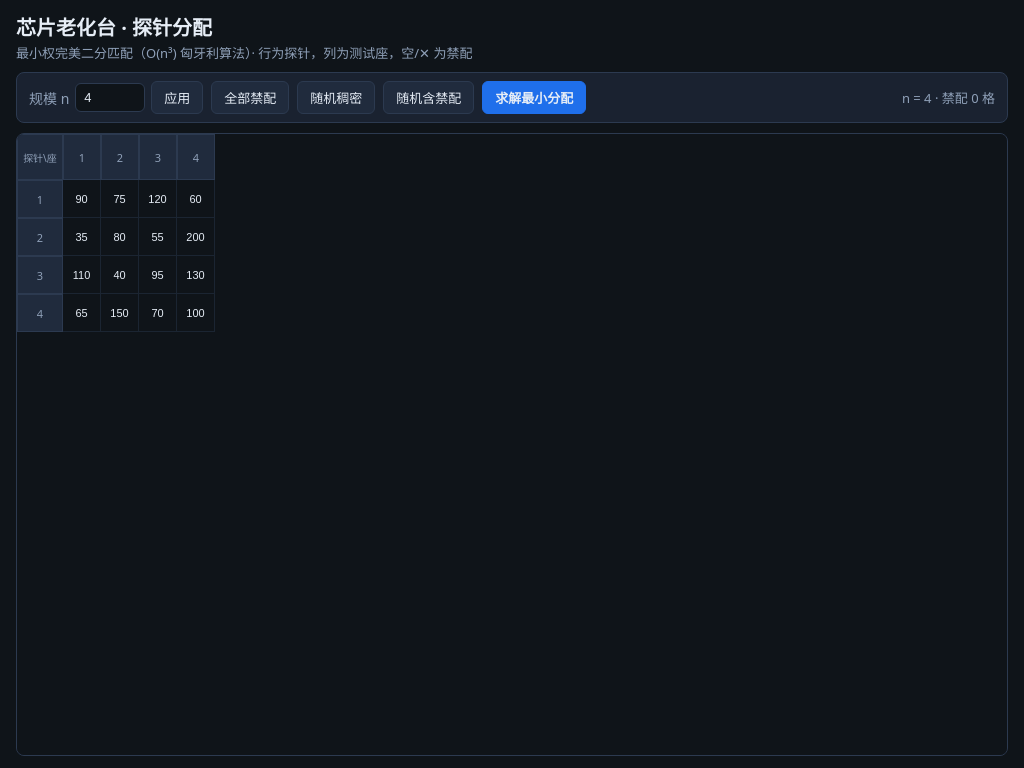
Test: App 页面：请求锁定 / 编辑清方案 / 排除重算 › 编辑后旧标记随方案一起清除，不会残留上一轮结论
Step 1. Click the button "求解最小分配" → click(534, 98), box [482,81,586,114]
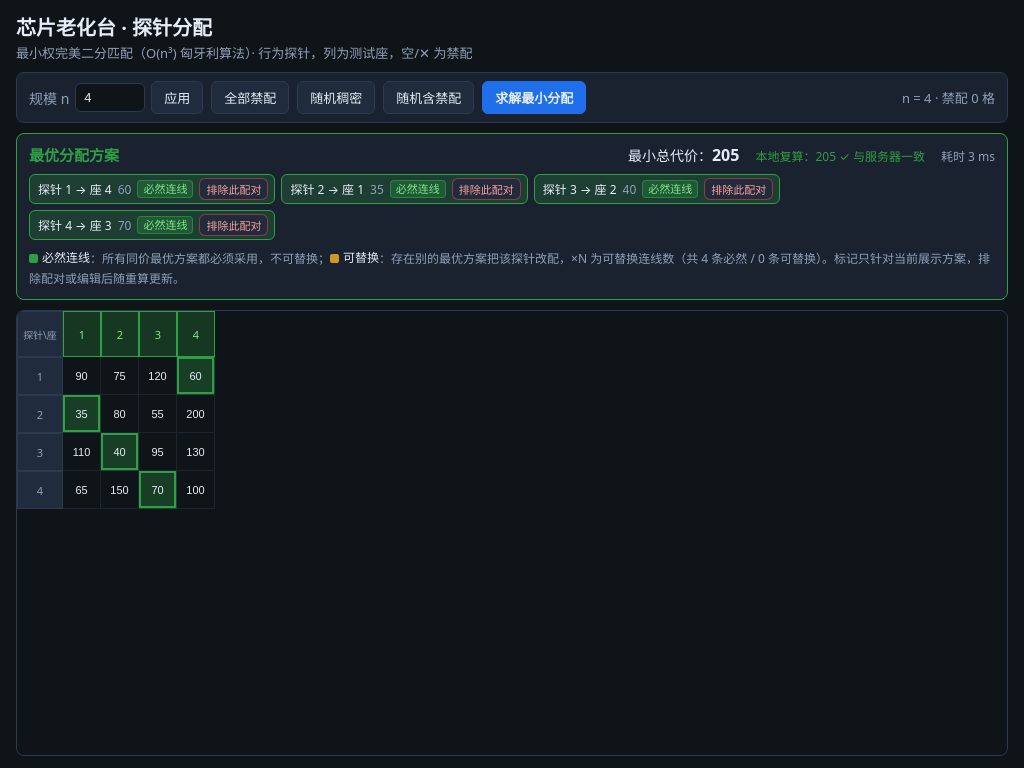
Expected: the heading "最优分配方案" is shown, [29,144,119,165]
Expected: the number of elements with class "is-forced" is 4, [137,180,193,198]; [390,180,446,198]; [642,180,698,198]; [137,216,193,234]
Step 2. Click the button with class "cell-value" showing "90" → click(82, 376), box [63,358,100,394]
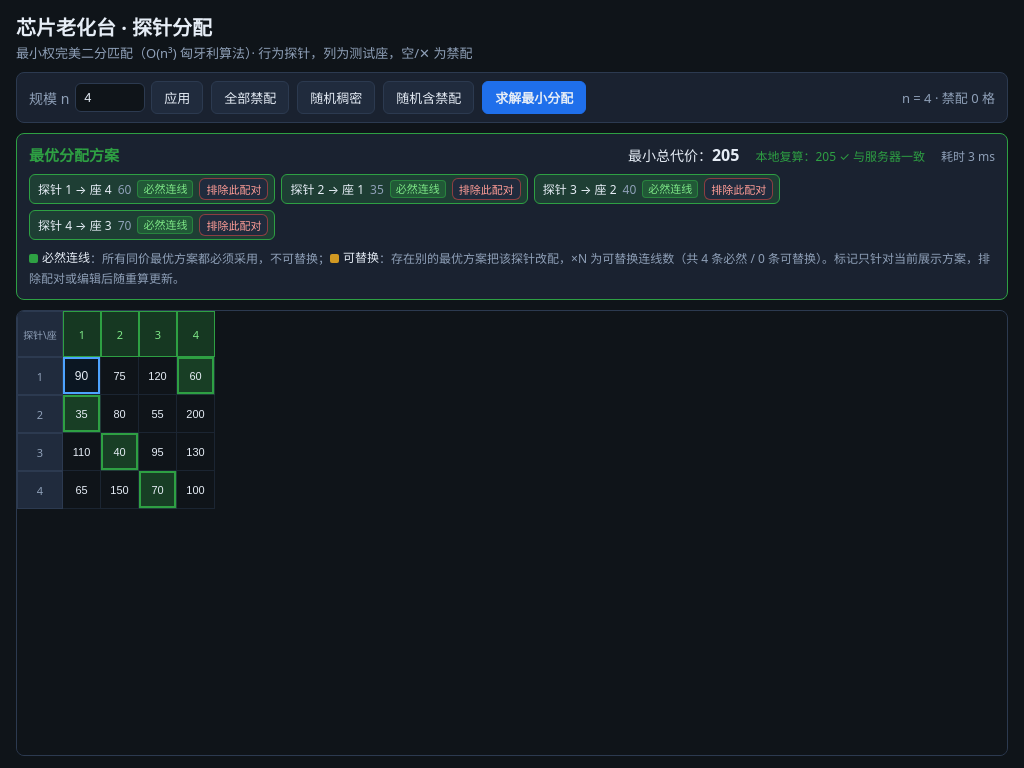
Step 3. Replace the text in the field with class "cell-input" with "123" → (82, 376), box [63,358,100,394]
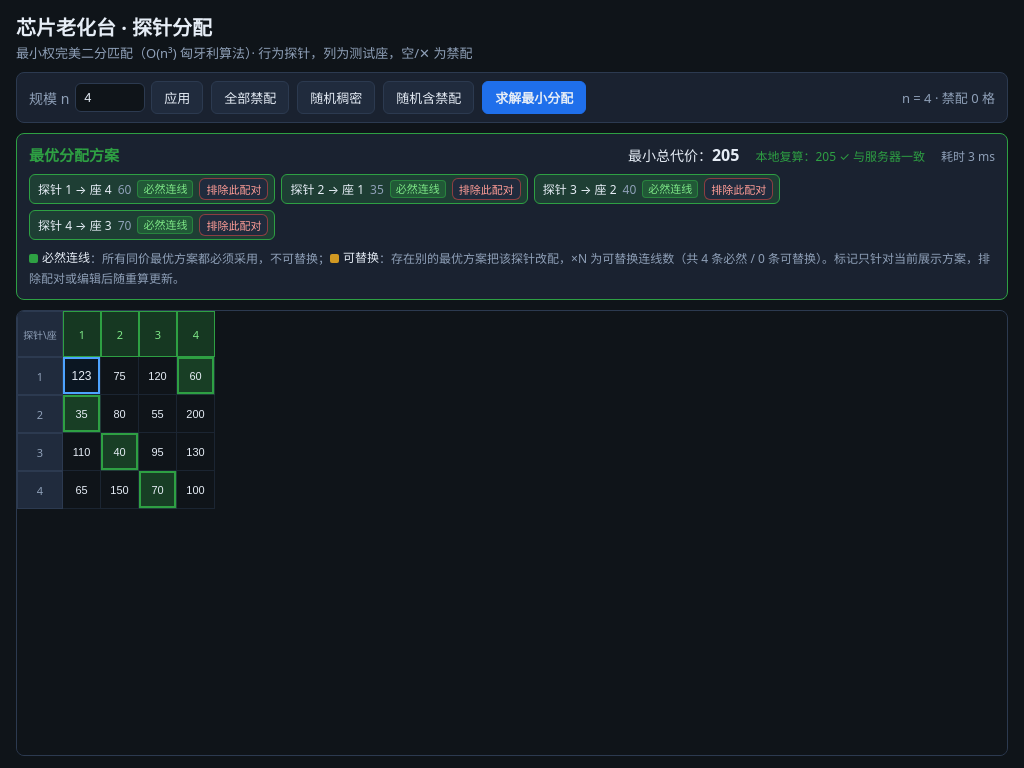
Step 4. Press Enter in the field with class "cell-input", box [63,358,100,394]
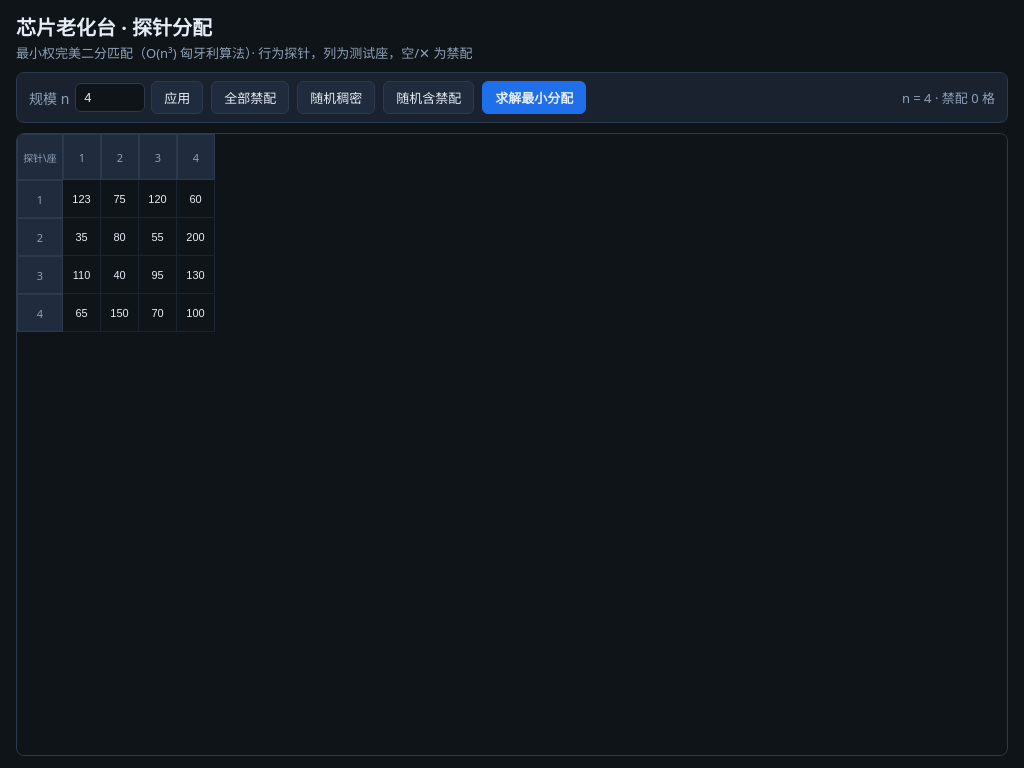
Expected: the heading "最优分配方案" is gone
